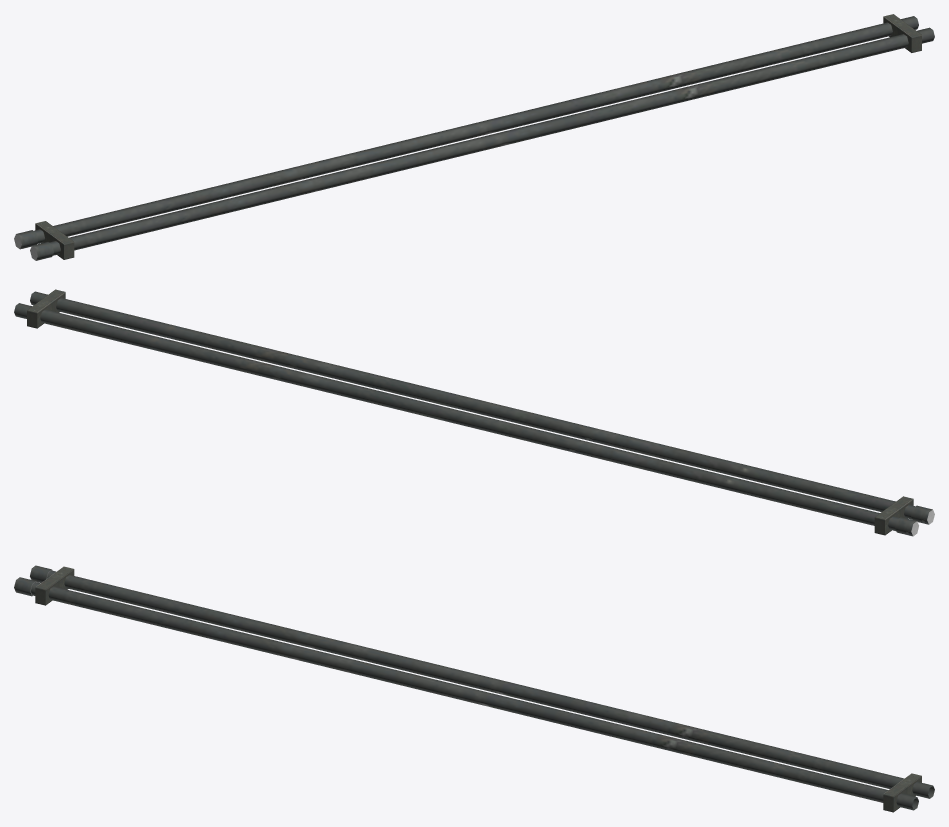
Rendered from Beam_01_Wire.FBX.
3 views of the same model, one above another, from view 1: azimuth 30°, elevation 25°; view 2: azimuth 150°, elevation 25°; view 3: azimuth 330°, elevation 25° (orthographic).
Visible parts, largest first — view 1: Beam_01_Wire; view 2: Beam_01_Wire; view 3: Beam_01_Wire.
Boxes of the visible parts, <box> form: Beam_01_Wire: <box>14,14,934,260</box>; Beam_01_Wire: <box>14,289,934,536</box>; Beam_01_Wire: <box>14,565,934,812</box>.
Size of the model in its own units: 10.12 by 0.1704 by 0.5567.
